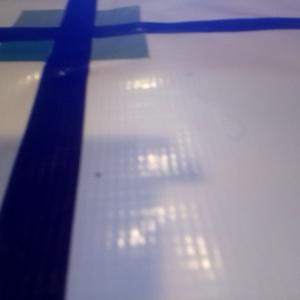bottom_left: (1, 28, 87, 61)
bottom_right: (52, 27, 149, 59), (66, 5, 140, 34)
top_left: (14, 9, 92, 38)
